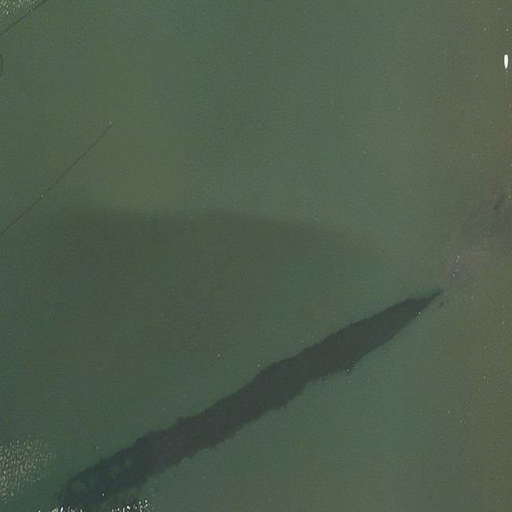ship: (504, 53, 509, 70)
